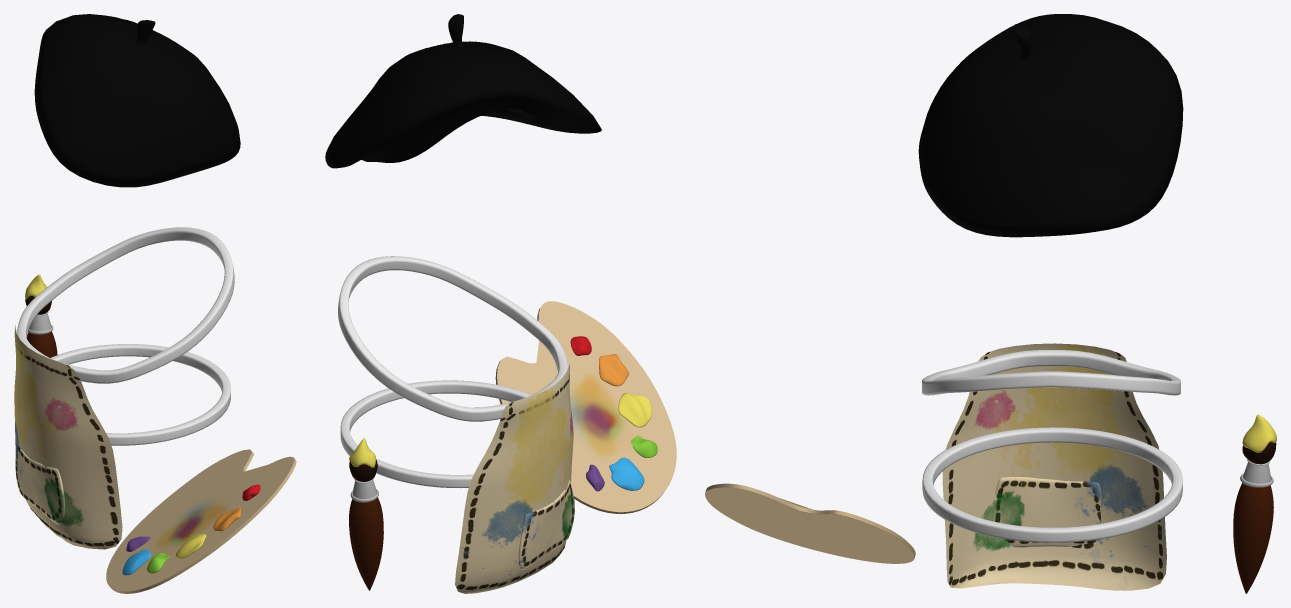
Rendered from Art_Painter.fbx.
The picture shows the model from 3 angles, left to right: view 1: azimuth 30°, elevation 25°; view 2: azimuth 150°, elevation 25°; view 3: azimuth 270°, elevation 25°; orthographic projection. The views are drawn at different scales.
Visible parts, largest first — view 1: Circle.004, Plane, Pallete, Circle.005, Circle.006, Plane.001, Cube, Cube.006, Cube.002, Circle.002; view 2: Circle.004, Pallete, Plane, Circle.005, Circle.006, Plane.001, Cube, Cube.002, Cube.006, Cube.003, Circle.002, Circle.001; view 3: Circle.004, Plane, Circle.006, Pallete, Circle.005, Plane.001, Cube, Circle.001.
Part boxes in pixels (bbox=[...]): Circle.004: bbox=[34, 14, 240, 187]; Plane: bbox=[14, 325, 122, 549]; Pallete: bbox=[106, 449, 296, 593]; Circle.005: bbox=[17, 227, 234, 383]; Circle.006: bbox=[50, 344, 230, 445]; Plane.001: bbox=[15, 443, 65, 524]; Cube: bbox=[27, 331, 57, 357]; Cube.006: bbox=[122, 549, 151, 575]; Cube.002: bbox=[176, 533, 206, 558]; Circle.002: bbox=[28, 312, 53, 334]; Circle.004: bbox=[325, 14, 601, 168]; Pallete: bbox=[495, 301, 676, 513]; Plane: bbox=[455, 363, 573, 593]; Circle.005: bbox=[338, 256, 567, 421]; Circle.006: bbox=[340, 380, 531, 488]; Plane.001: bbox=[518, 480, 574, 569]; Cube: bbox=[349, 497, 383, 590]; Cube.002: bbox=[618, 393, 651, 427]; Cube.006: bbox=[609, 457, 644, 490]; Cube.003: bbox=[599, 354, 628, 386]; Circle.002: bbox=[350, 478, 378, 502]; Circle.001: bbox=[349, 438, 375, 467]; Circle.004: bbox=[918, 14, 1183, 237]; Plane: bbox=[942, 343, 1166, 590]; Circle.006: bbox=[922, 427, 1182, 542]; Pallete: bbox=[705, 483, 915, 563]; Circle.005: bbox=[922, 349, 1180, 395]; Plane.001: bbox=[995, 477, 1101, 547]; Cube: bbox=[1233, 483, 1273, 593]; Circle.001: bbox=[1242, 414, 1276, 452].
Size of the model in its own units: 405 by 926 by 790.
Materials: 14 (2 with a texture image).
